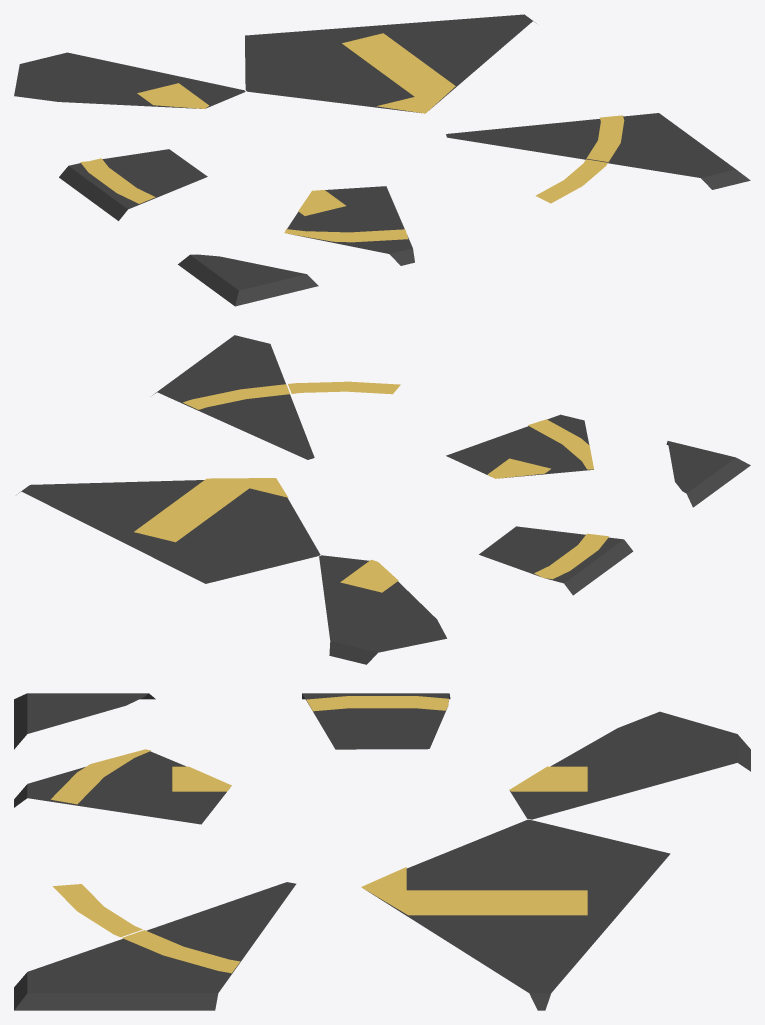
The model's file is L2Helipuerto.fbx.
3 renders of one model, top to bottom at view 1: azimuth 30°, elevation 25°; view 2: azimuth 150°, elevation 25°; view 3: azimuth 270°, elevation 25°, orthographic. The views are drawn at different scales.
Visible parts, largest first — view 1: Helipuerto_cell.010, Helipuerto_cell.024, Helipuerto_cell.013, Helipuerto_cell.001, Helipuerto_cell.019, Helipuerto_cell.003, Helipuerto_cell.028, Helipuerto_cell.008; view 2: Helipuerto_cell.010, Helipuerto_cell.013, Helipuerto_cell.024, Helipuerto_cell.001, Helipuerto_cell.019, Helipuerto_cell.003, Helipuerto_cell.028, Helipuerto_cell.008; view 3: Helipuerto_cell.010, Helipuerto_cell.024, Helipuerto_cell.013, Helipuerto_cell.001, Helipuerto_cell.019, Helipuerto_cell.003, Helipuerto_cell.028, Helipuerto_cell.008.
Part boxes in pixels (bbox=[...]): Helipuerto_cell.010: bbox=[245, 14, 536, 113]; Helipuerto_cell.024: bbox=[446, 113, 750, 189]; Helipuerto_cell.013: bbox=[14, 52, 245, 108]; Helipuerto_cell.001: bbox=[284, 186, 414, 265]; Helipuerto_cell.019: bbox=[59, 149, 207, 220]; Helipuerto_cell.003: bbox=[178, 254, 318, 306]; Helipuerto_cell.028: bbox=[535, 159, 607, 203]; Helipuerto_cell.008: bbox=[586, 115, 624, 162]; Helipuerto_cell.010: bbox=[18, 478, 320, 583]; Helipuerto_cell.013: bbox=[319, 555, 446, 664]; Helipuerto_cell.024: bbox=[152, 335, 314, 459]; Helipuerto_cell.001: bbox=[446, 414, 593, 478]; Helipuerto_cell.019: bbox=[479, 526, 633, 595]; Helipuerto_cell.003: bbox=[666, 441, 750, 507]; Helipuerto_cell.028: bbox=[288, 381, 400, 394]; Helipuerto_cell.008: bbox=[183, 384, 289, 409]; Helipuerto_cell.010: bbox=[361, 820, 670, 1010]; Helipuerto_cell.024: bbox=[14, 882, 296, 1010]; Helipuerto_cell.013: bbox=[509, 711, 750, 819]; Helipuerto_cell.001: bbox=[14, 749, 231, 824]; Helipuerto_cell.019: bbox=[302, 693, 450, 749]; Helipuerto_cell.003: bbox=[14, 693, 155, 749]; Helipuerto_cell.028: bbox=[53, 884, 142, 937]; Helipuerto_cell.008: bbox=[122, 930, 240, 973].
Size of the model in its own units: 100 by 2.03 by 100.
